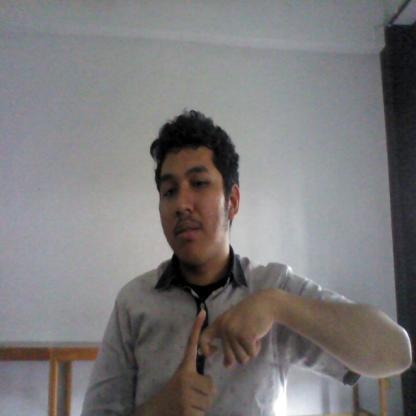K: (171, 285, 276, 416)
